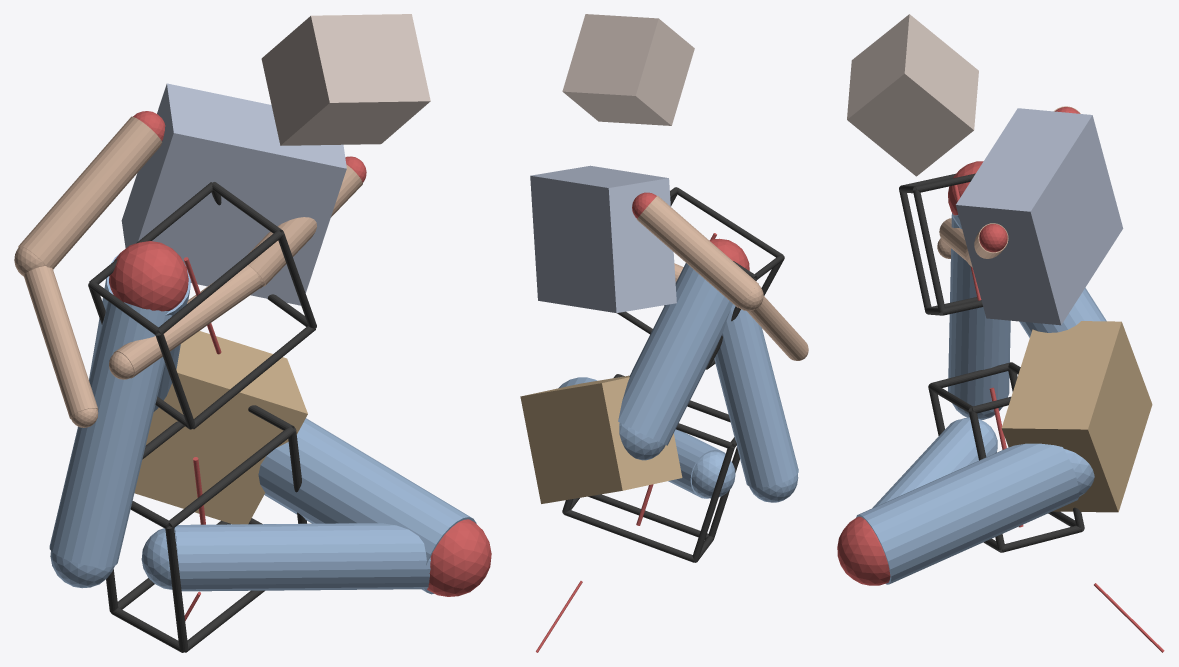
File: front_maquette_modified_local.glb
3 views of the same model, side by side, from view 1: azimuth 30°, elevation 25°; view 2: azimuth 150°, elevation 25°; view 3: azimuth 270°, elevation 25° (orthographic). The views are drawn at different scales.
Visible parts, largest first — view 1: world; view 2: world; view 3: world.
Part boxes in pixels (left/top/right/bottom): world: left=14, top=14, right=491, bottom=652; world: left=520, top=14, right=808, bottom=652; world: left=837, top=14, right=1164, bottom=652.
Bounding box in the file's own units: 0.6155 × 1.15 × 0.5363.
